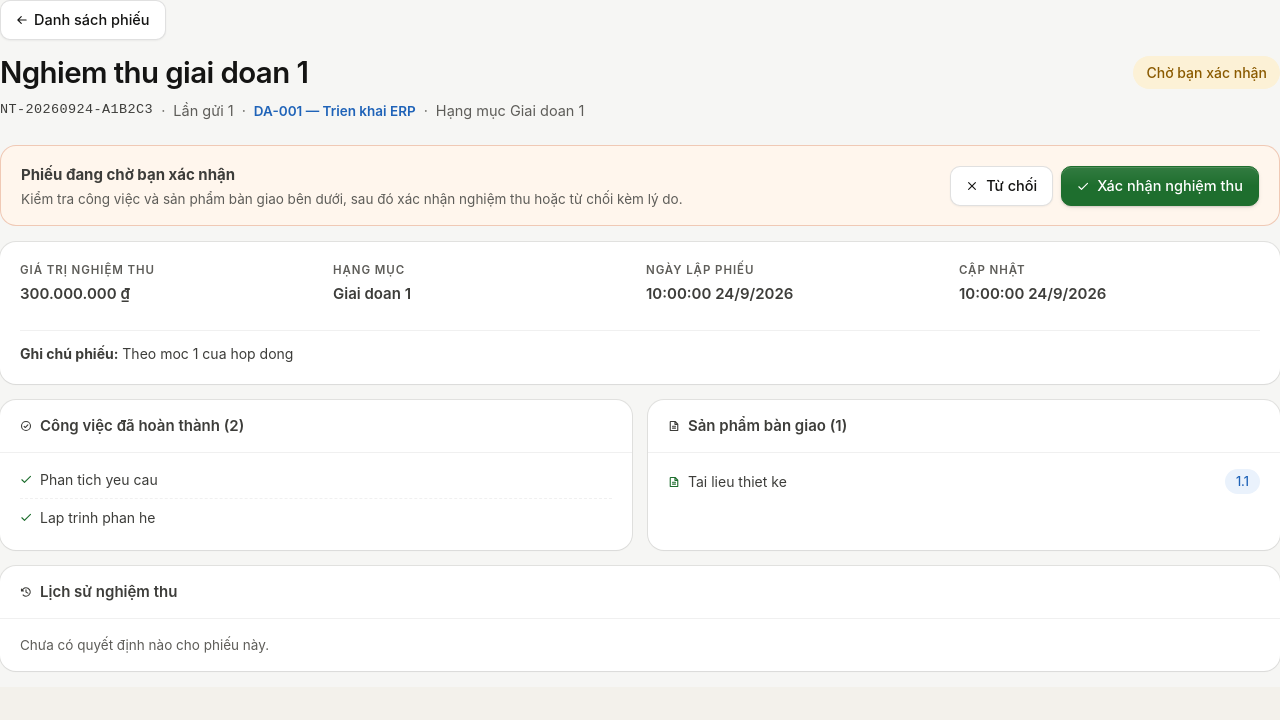
Scenario: NCL-13-CN-003 — Khách hàng duyệt phiếu nghiệm thu trên cổng › phiếu không còn chờ xác nhận (INVALID_STATE) → báo lỗi và nạp lại phiếu
The image size is (1280, 720).
Click the button with test id "portal-open-confirm". click: (1160, 186)
box: x1=1061 y1=166 x2=1259 y2=206
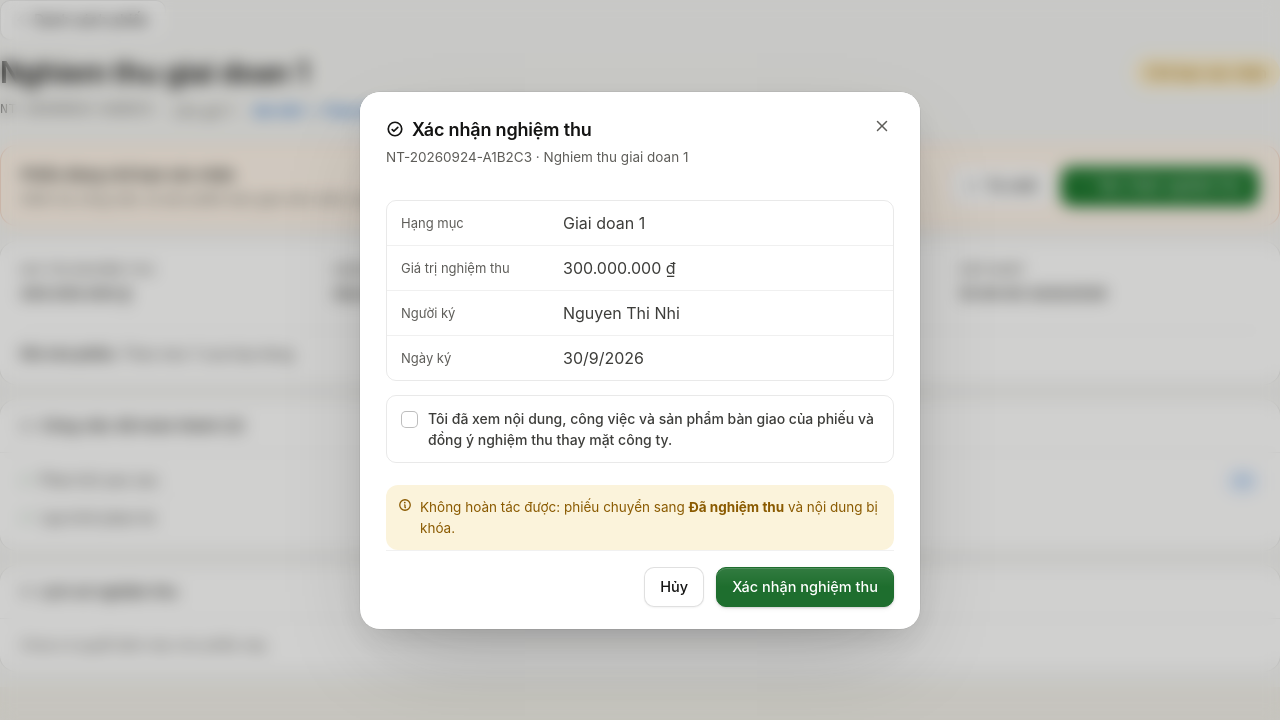
Click the checkbox. click: (410, 420)
box: x1=401 y1=411 x2=418 y2=428
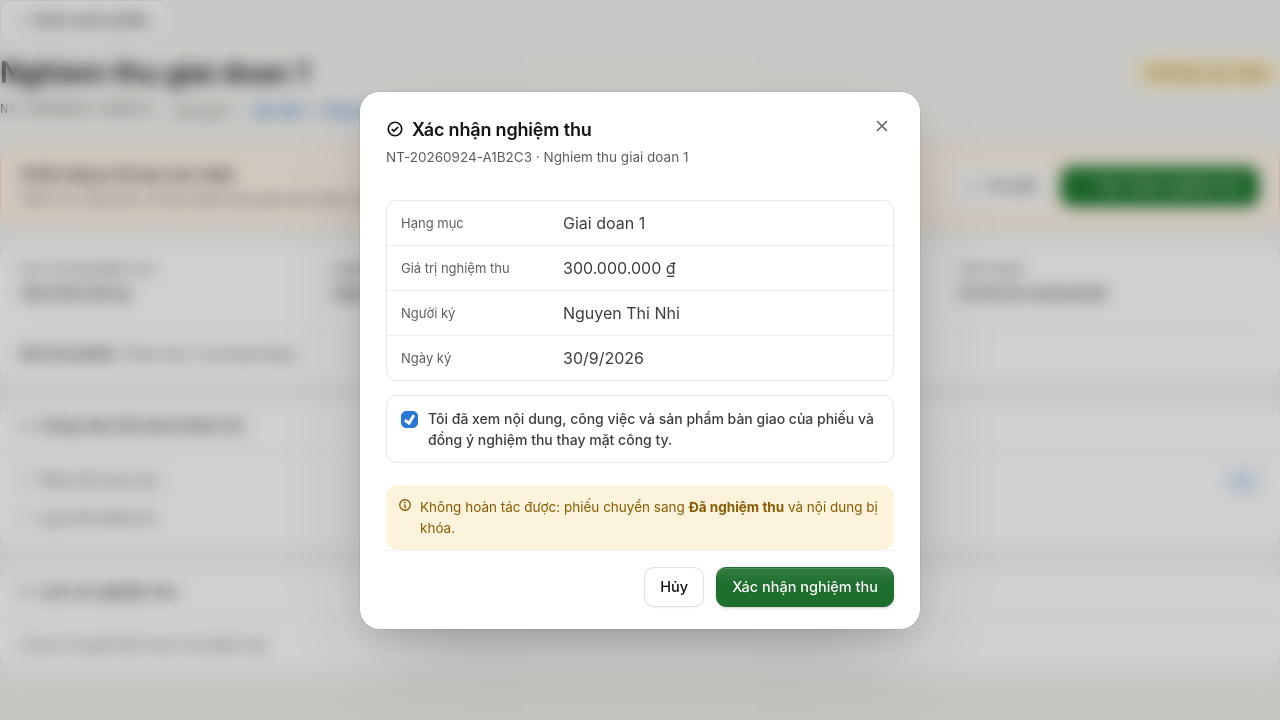
Click the button with test id "portal-decision-submit". click: (805, 587)
box: x1=716 y1=567 x2=894 y2=607
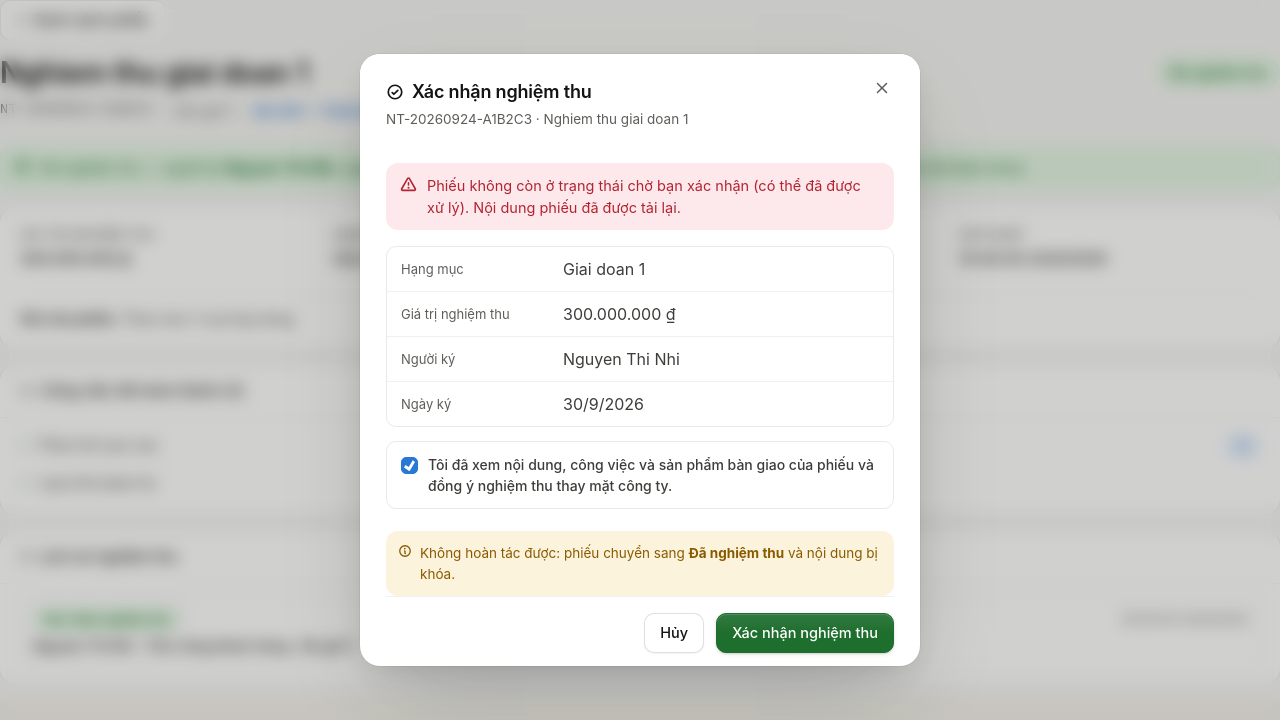
Now the message with test id "portal-decision-error" shows "không còn ở trạng thái chờ", box x1=427 y1=177 x2=861 y2=216
